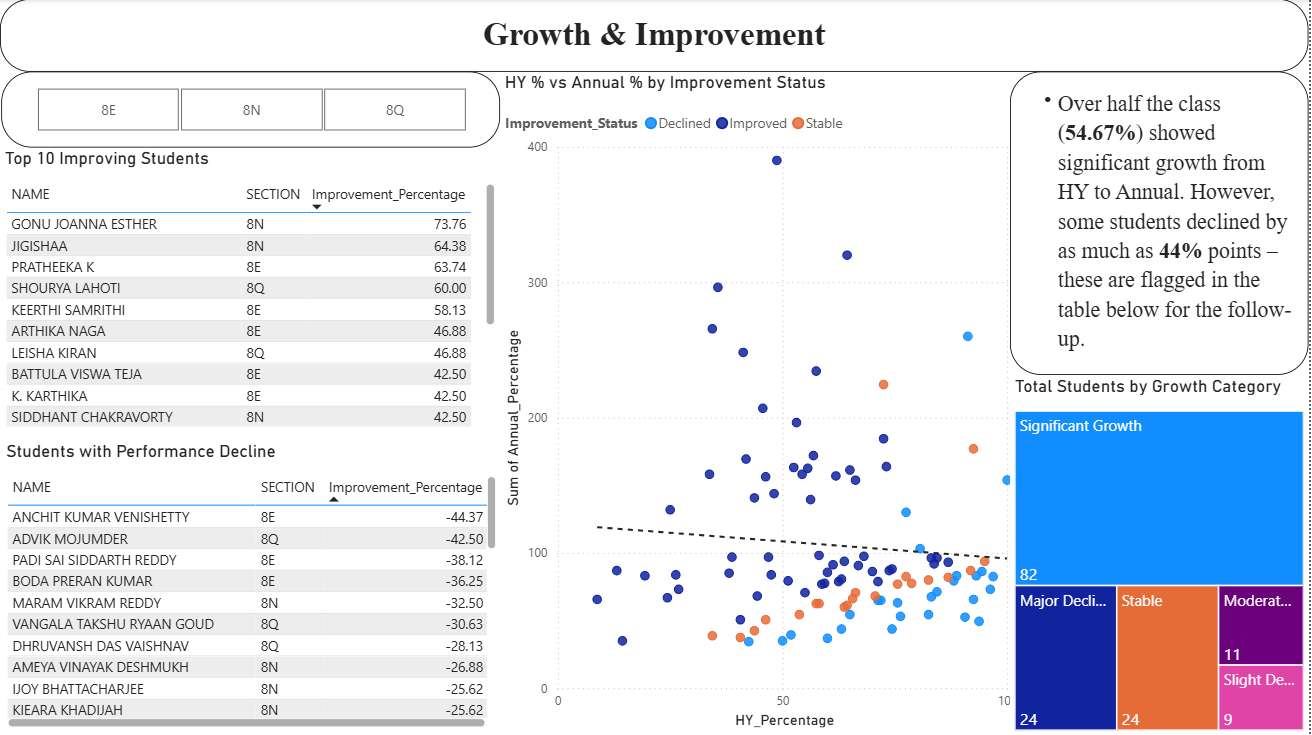

The page's visual inventory and layout, read from the dashboard file:
{"tool":"powerbi","page":{"name":"Growth & Improvement","canvas":[1280,720],"ordinal":2},"visuals":[{"type":"scatterChart","title":"HY % vs Annual % by Improvement Status","fields":{"X":["student_performance_feature_engineered.HY_Percentage"],"Y":["Sum(student_performance_feature_engineered.Annual_Percentage)"],"Series":["student_performance_feature_engineered.Improvement_Status"]},"box":[489.1,70.9,516,646.9],"z":0},{"type":"treemap","title":"Total Students by Growth Category","fields":{"Group":["student_performance_feature_engineered.Growth_Category"],"Values":["student_performance_feature_engineered.Total Students"]},"box":[988,368.1,292.3,352.2],"z":1000},{"type":"tableEx","title":"Top 10 Improving Students","fields":{"Values":["student_performance_feature_engineered.NAME","student_performance_feature_engineered.SECTION","student_performance_feature_engineered.Improvement_Percentage"]},"box":[0,145.5,489.1,277.6],"z":2000},{"type":"actionButton","box":[0,0,100,40],"z":3000},{"type":"tableEx","title":"Students with Performance Decline","fields":{"Values":["student_performance_feature_engineered.NAME","student_performance_feature_engineered.SECTION","student_performance_feature_engineered.Improvement_Percentage"]},"box":[1.2,431.7,489.1,286.1],"z":4000},{"type":"slicer","fields":{"Values":["student_performance_feature_engineered.SECTION"]},"box":[1.2,70.9,487.9,74.6],"z":5000},{"type":"textbox","box":[988,70.9,292.3,297.1],"z":6000},{"type":"textbox","box":[0,0,1280.3,70.9],"z":7000}]}

Visuals, with their boxes in screenshot pixels (x1, y1, x2, y2), scaled from the page's 1280x720 canvas onto the 1312x735 screenshot:
"HY % vs Annual % by Improvement Status" scatterChart: 501,72,1030,733
"Total Students by Growth Category" treemap: 1013,376,1311,734
"Top 10 Improving Students" tableEx: 0,149,501,432
actionButton: 0,0,102,41
"Students with Performance Decline" tableEx: 1,441,503,733
slicer - student_performance_feature_engineered.SECTION: 1,72,501,149
textbox: 1013,72,1311,376
textbox: 0,0,1311,72
